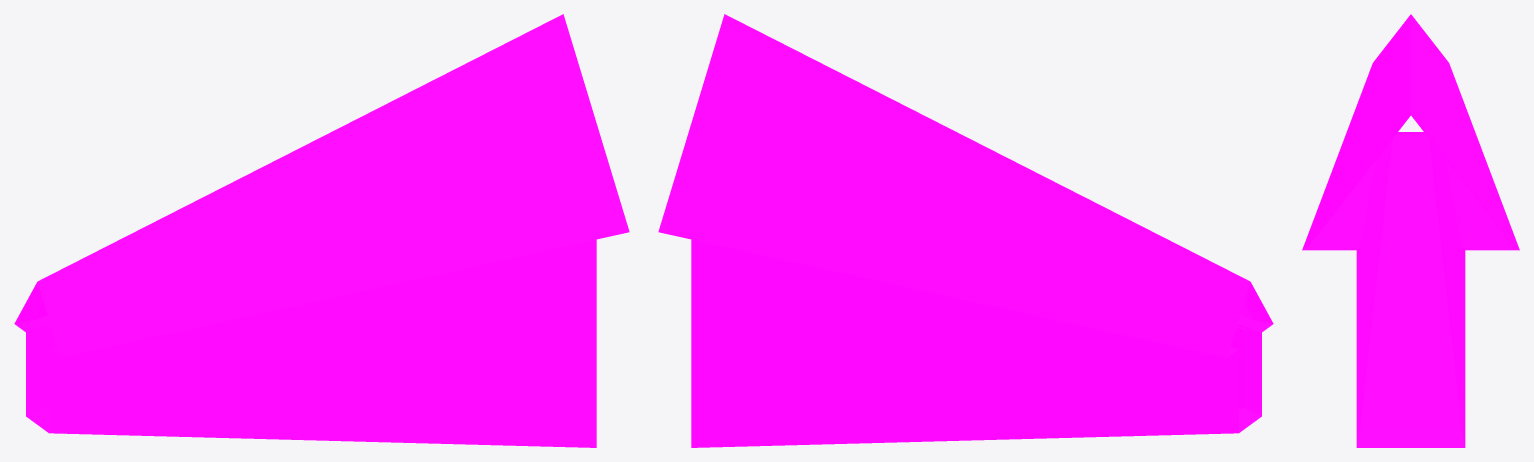
Rendered from arrow (1).fbx.
The picture shows the model from 3 angles, left to right: view 1: azimuth 30°, elevation 25°; view 2: azimuth 150°, elevation 25°; view 3: azimuth 270°, elevation 25°; orthographic projection. The views are drawn at different scales.
Parts seen in each view (by area): view 1: Cube; view 2: Cube; view 3: Cube.
Part boxes in pixels (box(x1,y1,x2,y2)): Cube: box(14, 14, 629, 447); Cube: box(658, 14, 1273, 447); Cube: box(1302, 14, 1519, 447).
Size of the model in its own units: 491 by 366 by 214.
